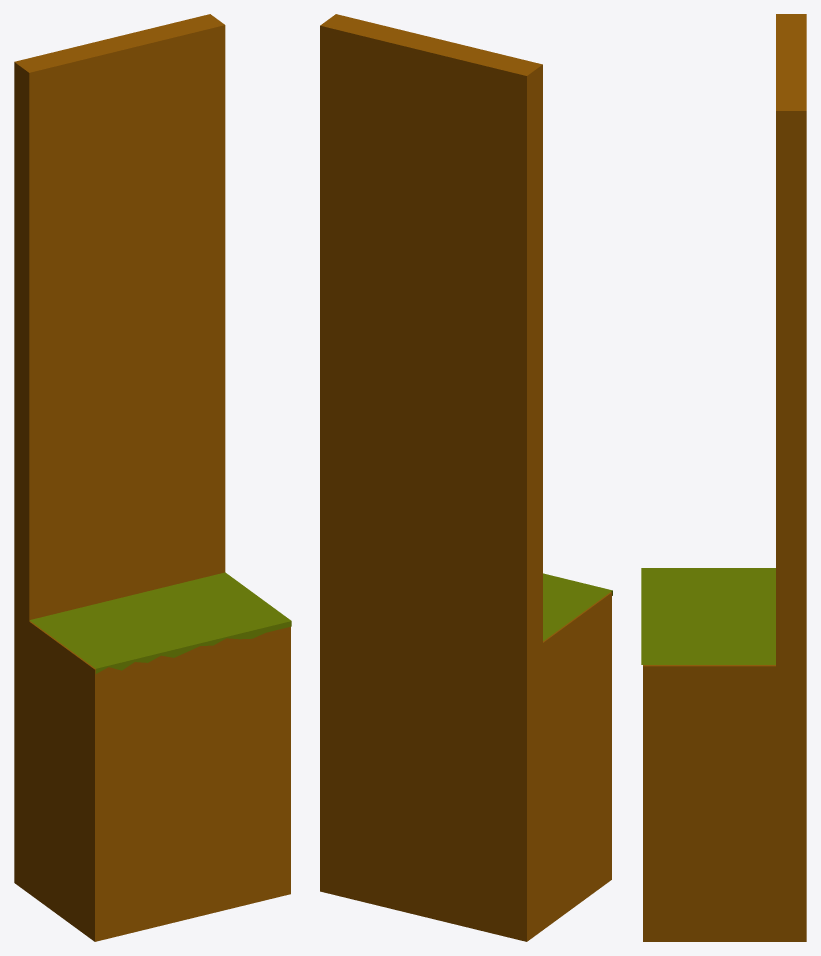
Rendered from Environment.fbx.
3 views of the same model, side by side, from view 1: azimuth 30°, elevation 25°; view 2: azimuth 150°, elevation 25°; view 3: azimuth 270°, elevation 25° (orthographic). The views are drawn at different scales.
Visible parts, largest first — view 1: Environment; view 2: Environment; view 3: Environment.
Boxes of the visible parts, bbox=[...] form: Environment: bbox=[14, 14, 291, 941]; Environment: bbox=[320, 14, 612, 941]; Environment: bbox=[641, 14, 806, 941].
Size of the model in its own units: 150 by 600 by 108.
